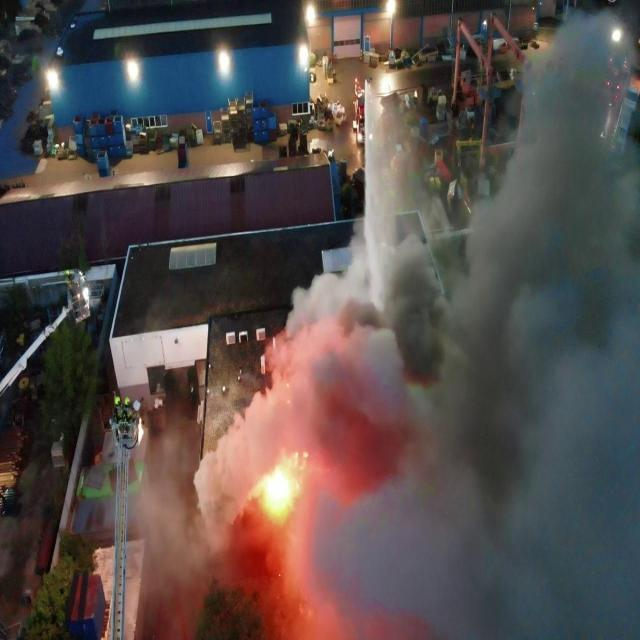Fire: (265, 450, 309, 510)
Smoke: (130, 9, 640, 639)
